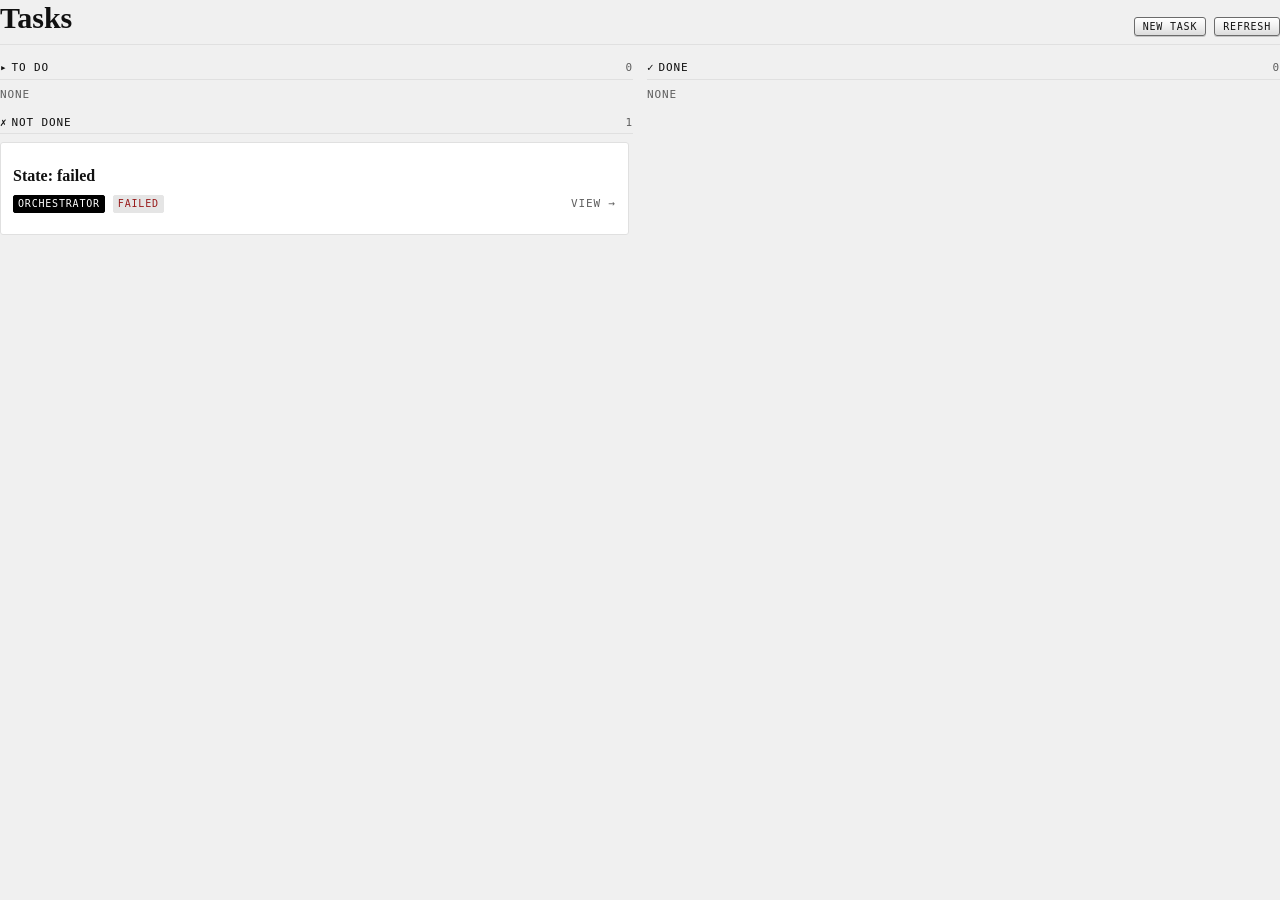
it: recovery in the sheet (B3) › failed: exactly one action (or a stated reason), no competing CTAs
Click the button "State: failed orchestrator failed View →" at (54, 175), box [0,142,629,235]
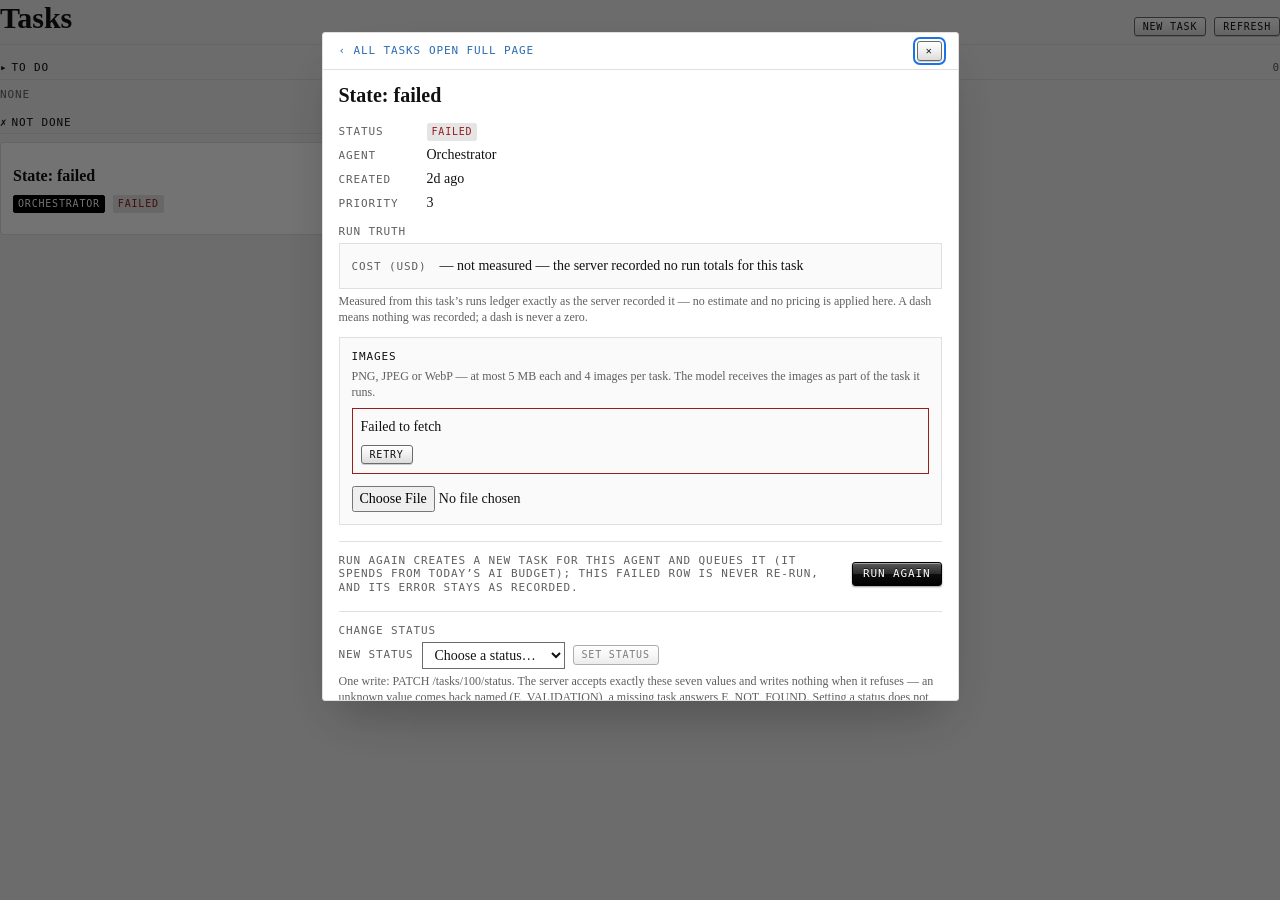
Result: the number of buttons with class "btn-glossy" is 1 at [852,562,942,586]
